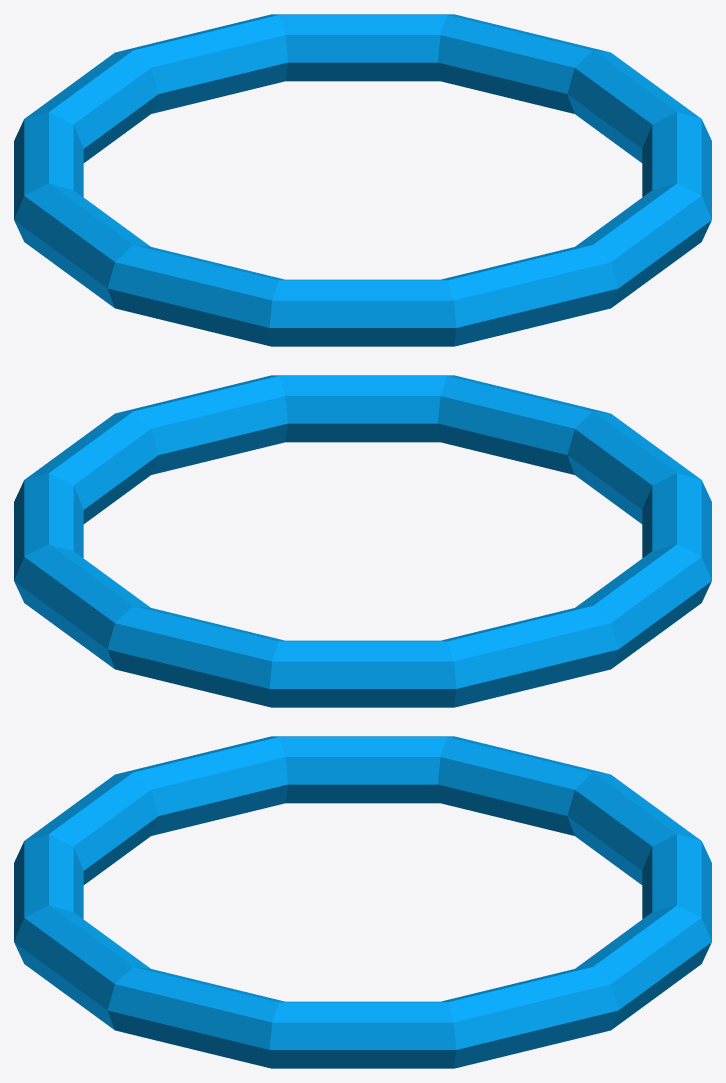
The model's file is ring.gltf.
3 views of the same model, one above another, from view 1: azimuth 30°, elevation 25°; view 2: azimuth 150°, elevation 25°; view 3: azimuth 270°, elevation 25° (orthographic).
Visible parts, largest first — view 1: torus; view 2: torus; view 3: torus.
Part boxes in pixels (left/top/right/bottom): torus: left=14, top=14, right=711, bottom=346; torus: left=14, top=375, right=711, bottom=707; torus: left=14, top=736, right=711, bottom=1068.
Size of the model in its own units: 1.25 by 0.1294 by 1.25.
Materials: 1 (1 with a texture image).
